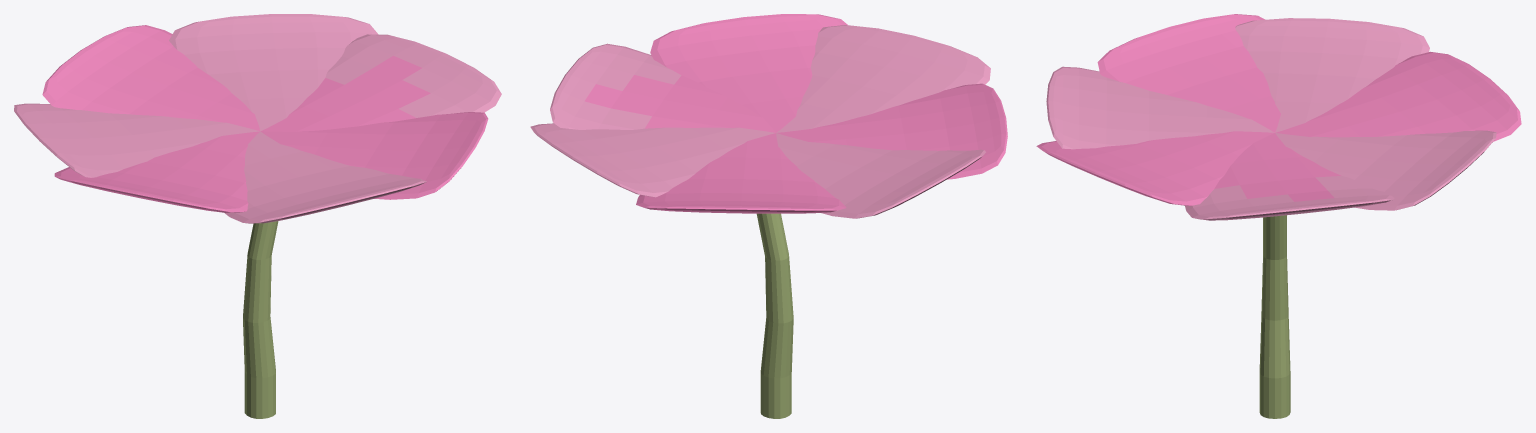
Rendered from pink flower.fbx.
3 renders of one model, left to right at view 1: azimuth 30°, elevation 25°; view 2: azimuth 150°, elevation 25°; view 3: azimuth 270°, elevation 25°, orthographic.
Visible parts, largest first — view 1: Cube.006, Cube.007, Cube.002, Cube.004, Cube.003, Cube, Cube.001, Cube.005; view 2: Cube, Cube.004, Cube.006, Cube.001, Cube.007, Cube.003, Cube.002, Cube.005; view 3: Cube.003, Cube.002, Cube.001, Cube, Cube.007, Cube.006, Cube.004, Cube.005.
Part boxes in pixels (x1,y1,x2,y2): Cube.006: (261,34,501,131); Cube.007: (169,14,378,131); Cube.002: (42,25,259,131); Cube.004: (261,112,488,199); Cube.003: (14,103,259,177); Cube: (224,131,426,223); Cube.001: (54,131,259,212); Cube.005: (243,221,278,418); Cube: (776,25,990,132); Cube.004: (650,14,847,132); Cube.006: (550,43,775,132); Cube.001: (777,83,1007,179); Cube.007: (530,123,775,197); Cube.003: (776,133,985,218); Cube.002: (636,133,846,213); Cube.005: (756,213,793,418); Cube.003: (1235,18,1429,132); Cube.002: (1275,51,1521,141); Cube.001: (1097,14,1280,132); Cube: (1046,66,1274,149); Cube.007: (1275,130,1496,210); Cube.006: (1185,133,1394,220); Cube.004: (1036,131,1273,205); Cube.005: (1259,215,1290,418).
Size of the model in its own units: 250 by 170 by 249.
